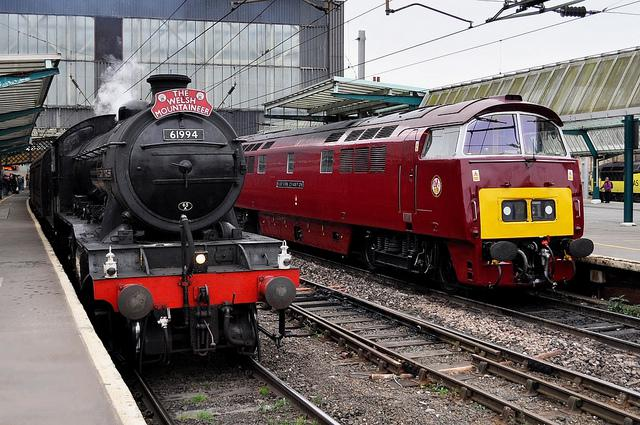Train: (30, 75, 302, 367), (233, 95, 596, 299)
